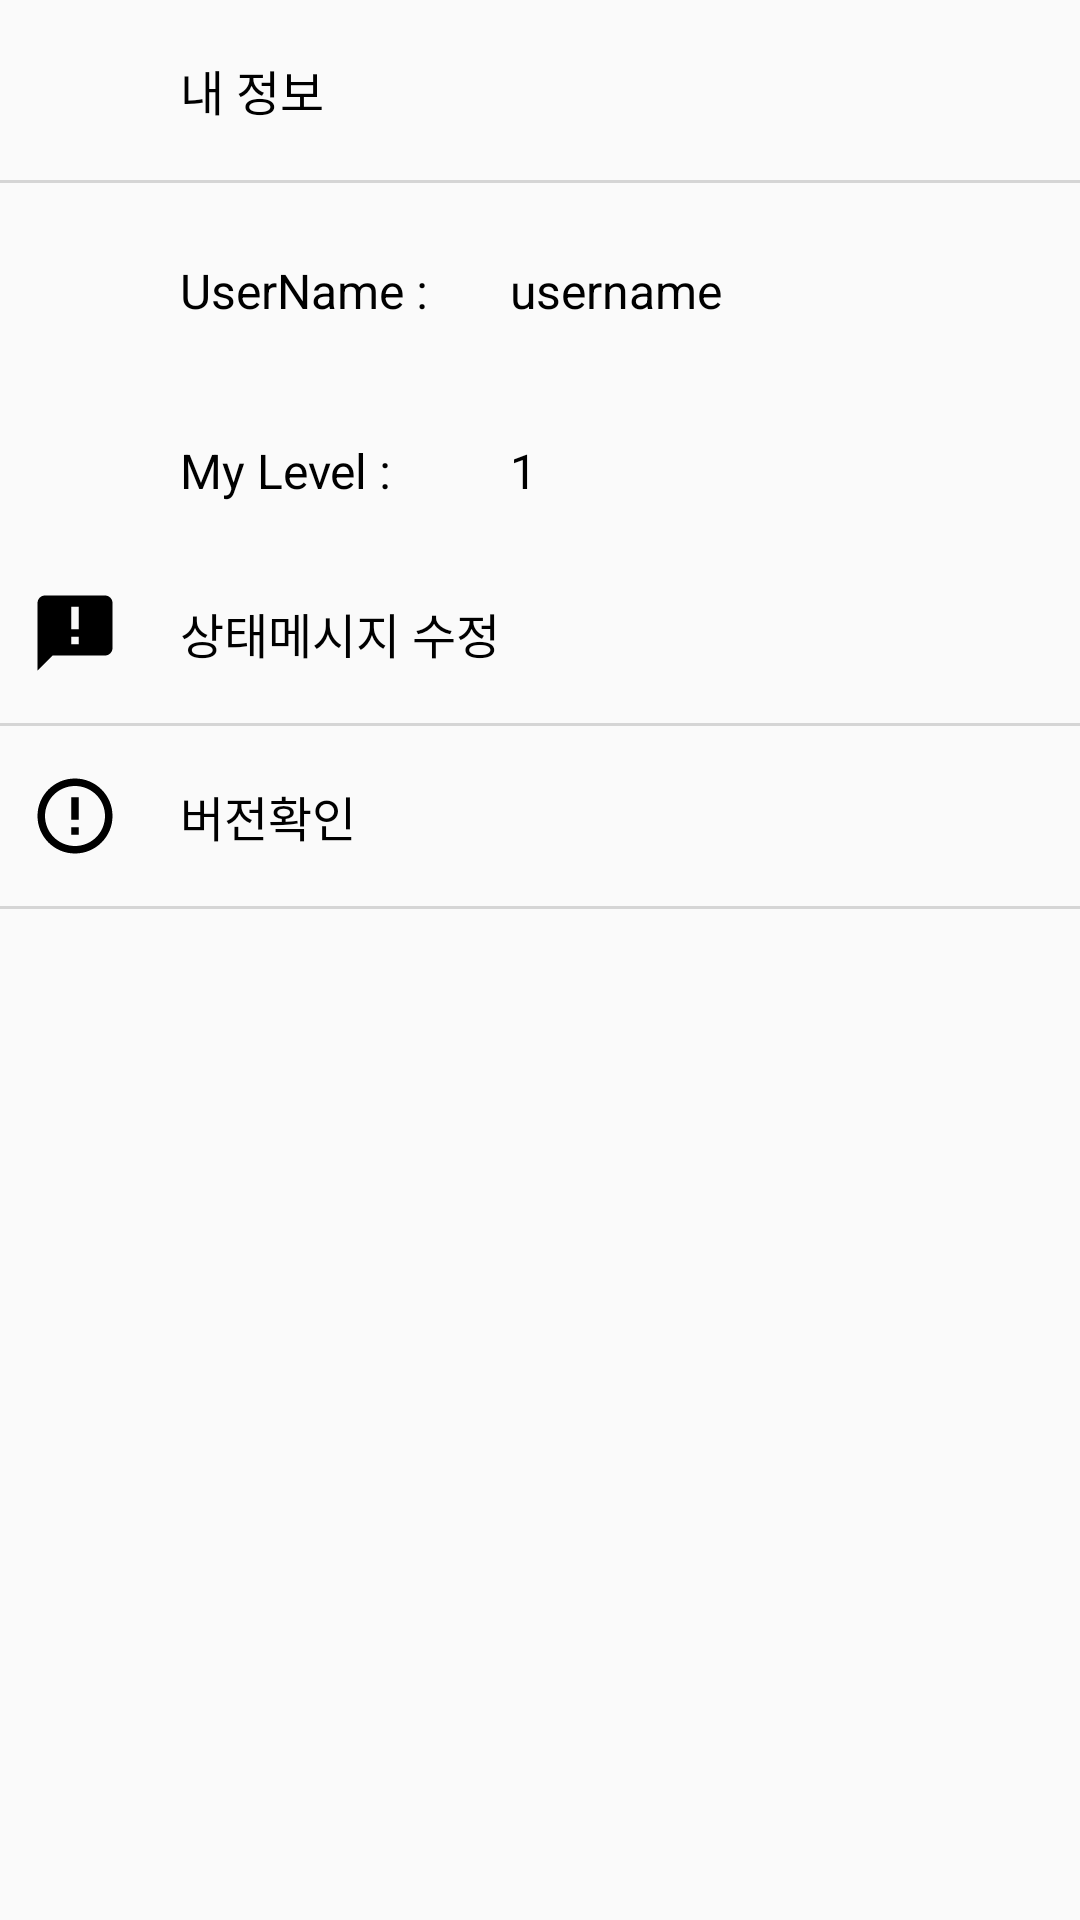

Icons on this 1080*1920 Android screen, each with the point to tap as (x=x, y=y):
announcement: (x=75, y=633)
error: (x=75, y=816)
